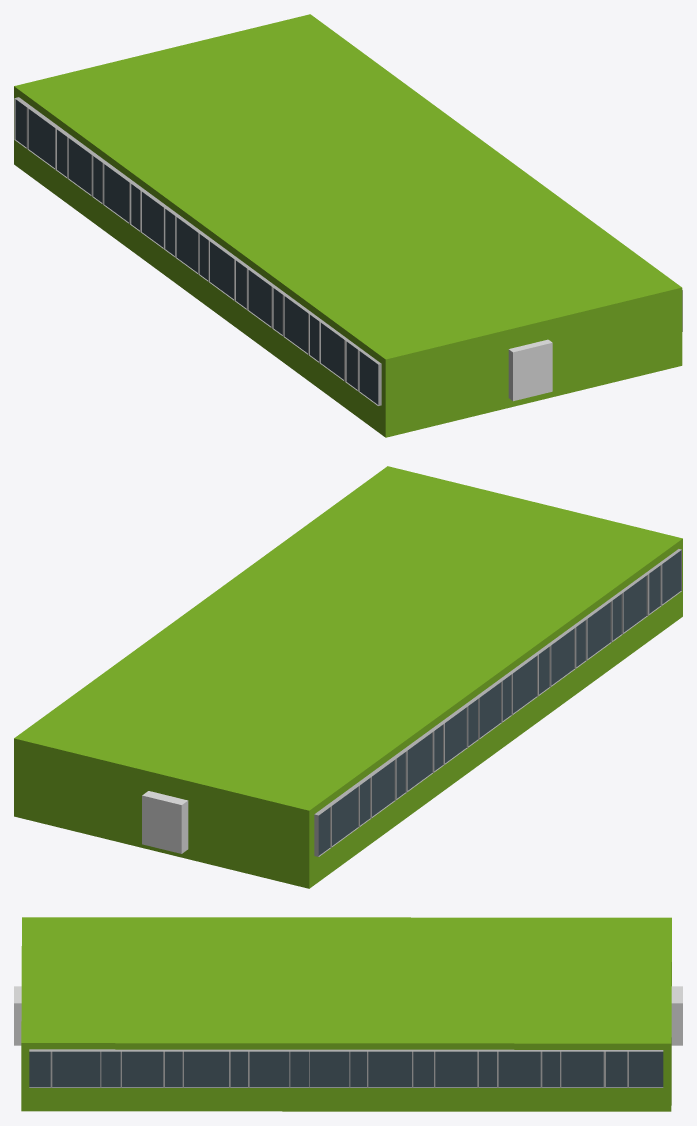
3 views of the same model, one above another, from view 1: azimuth 30°, elevation 25°; view 2: azimuth 150°, elevation 25°; view 3: azimuth 270°, elevation 25° (orthographic). The views are drawn at different scales.
Parts seen in each view (by area): view 1: C15, Entrance; view 2: C15, Entrance.1; view 3: C15, Entrance.1, Entrance.
Part boxes in pixels (x1=…): C15: x1=14, y1=14, x2=682, y2=437; Entrance: x1=508, y1=339, x2=552, y2=401; C15: x1=14, y1=466, x2=682, y2=888; Entrance.1: x1=142, y1=791, x2=188, y2=853; C15: x1=21, y1=917, x2=671, y2=1111; Entrance.1: x1=671, y1=986, x2=682, y2=1045; Entrance: x1=14, y1=986, x2=21, y2=1045.
Size of the model in its own units: 13.04 by 3.2 by 28.45.
